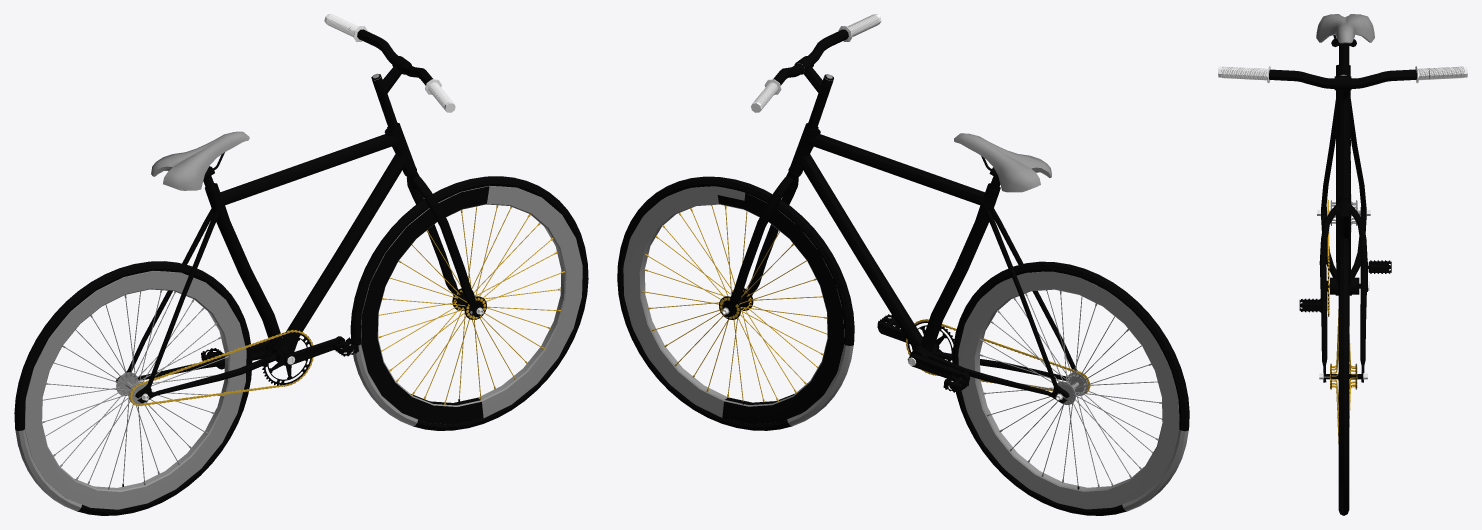
File: Sepeda.fbx
The picture shows the model from 3 angles, left to right: view 1: azimuth 30°, elevation 25°; view 2: azimuth 150°, elevation 25°; view 3: azimuth 270°, elevation 25°; orthographic projection.
Parts seen in each view (by area): view 1: Ban Depan, Ban Belakang, Cylinder002, Stang, Tempat Duduk, Cylinder003, Gear1, rantai; view 2: Ban Depan, Ban Belakang, Cylinder002, Stang, Tempat Duduk, Cylinder003, Gear2; view 3: Ban Depan, Cylinder002, Stang, Cylinder003, Tempat Duduk, gayung2.
Boxes of the visible parts, left/top/right/bottom form: Ban Depan: left=350, top=176, right=588, bottom=430; Ban Belakang: left=14, top=261, right=252, bottom=515; Cylinder002: left=116, top=122, right=415, bottom=403; Stang: left=324, top=14, right=455, bottom=130; Tempat Duduk: left=151, top=131, right=249, bottom=190; Cylinder003: left=384, top=128, right=480, bottom=317; Gear1: left=262, top=330, right=345, bottom=386; rantai: left=129, top=330, right=313, bottom=406; Ban Depan: left=617, top=176, right=854, bottom=430; Ban Belakang: left=952, top=261, right=1189, bottom=515; Cylinder002: left=789, top=123, right=1077, bottom=403; Stang: left=751, top=14, right=881, bottom=130; Tempat Duduk: left=954, top=133, right=1051, bottom=192; Cylinder003: left=725, top=128, right=820, bottom=317; Gear2: left=907, top=354, right=969, bottom=380; Ban Depan: left=1323, top=237, right=1363, bottom=515; Cylinder002: left=1321, top=64, right=1366, bottom=295; Stang: left=1218, top=66, right=1467, bottom=140; Cylinder003: left=1319, top=196, right=1367, bottom=382; Tempat Duduk: left=1316, top=14, right=1374, bottom=65; gayung2: left=1368, top=260, right=1391, bottom=273.
Bounding box in the file's own units: 703 × 465 × 261.
